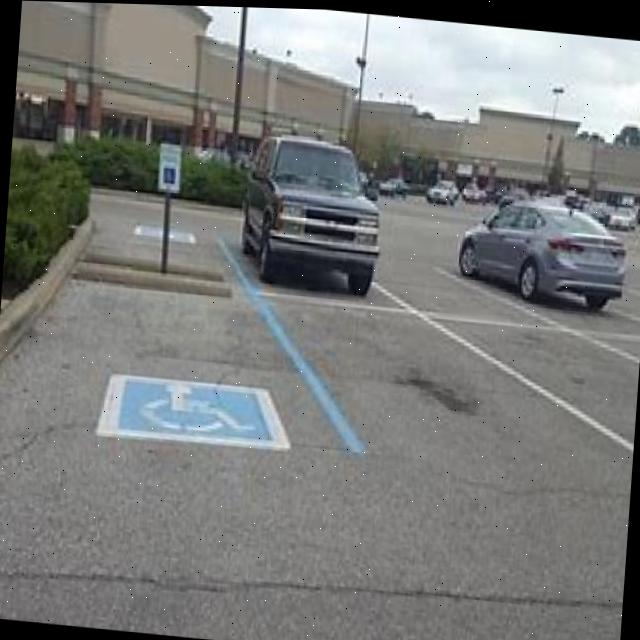symbol_of_access: (136, 377, 260, 438), (163, 166, 180, 184)
